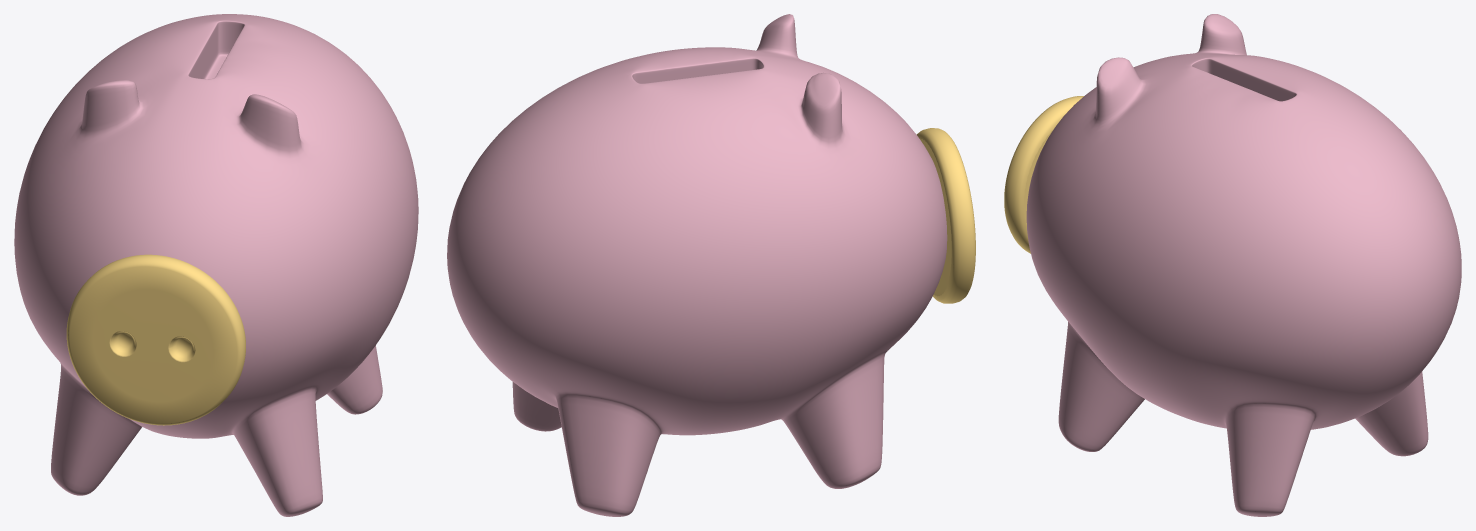
The model's file is piggybank.glb.
3 views of the same model, side by side, from view 1: azimuth 30°, elevation 25°; view 2: azimuth 150°, elevation 25°; view 3: azimuth 270°, elevation 25° (orthographic). The views are drawn at different scales.
Visible parts, largest first — view 1: Sphere.010, Sphere.001; view 2: Sphere.010, Sphere.001; view 3: Sphere.010, Sphere.001.
Part boxes in pixels (x1,y1,x2,y2): Sphere.010: [14, 14, 418, 516]; Sphere.001: [66, 254, 245, 425]; Sphere.010: [447, 14, 947, 516]; Sphere.001: [916, 128, 975, 303]; Sphere.010: [1026, 14, 1461, 516]; Sphere.001: [1004, 96, 1083, 253].
Size of the model in its own units: 0.4078 by 0.382 by 0.4179.
